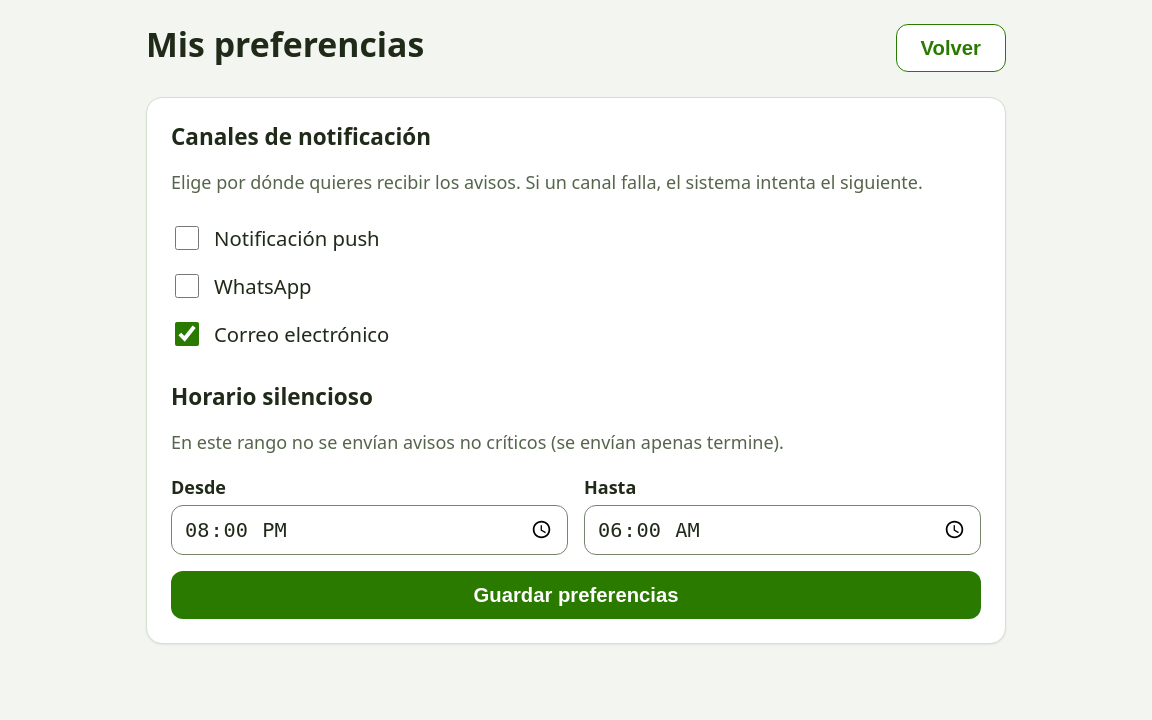
Test case: PreferencesPage › carga las preferencias y permite guardar cambios
Expected: the checkbox labelled "Correo electrónico" is checked, [175,322,199,346]
Expected: the time field labelled "Desde" holds "20:00", [171,505,568,555]
Click the button "Guardar preferencias": point(576, 595) [171,571,981,619]
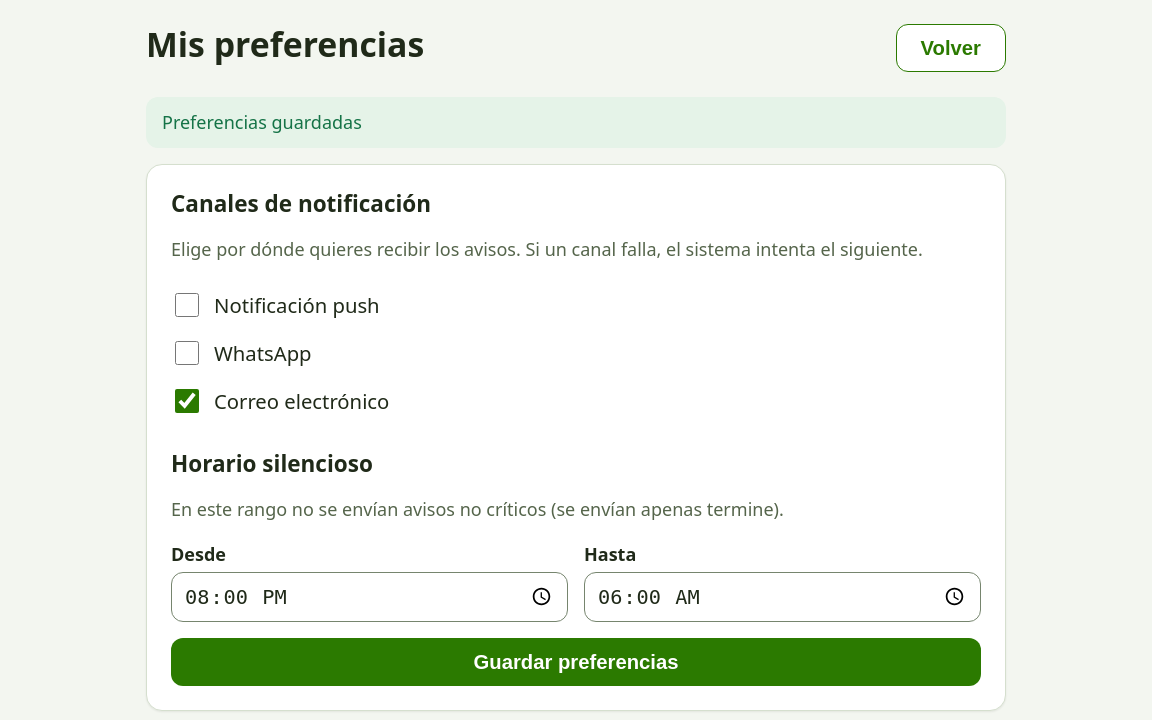
Expected: the text "Preferencias guardadas" is shown, [146,96,1006,148]
